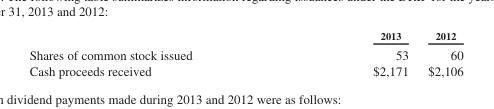table: (28, 28, 462, 77)
table column: (28, 28, 282, 77), (282, 28, 417, 77), (417, 28, 462, 77)
table column header: (28, 28, 462, 44)
table row: (28, 44, 462, 62), (28, 28, 462, 44), (28, 62, 462, 77)
